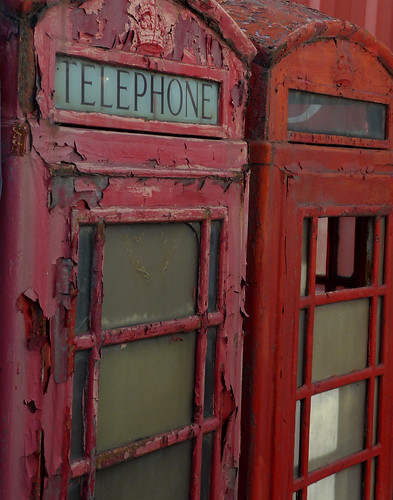phone booth: (1, 5, 256, 500), (258, 12, 393, 500)
